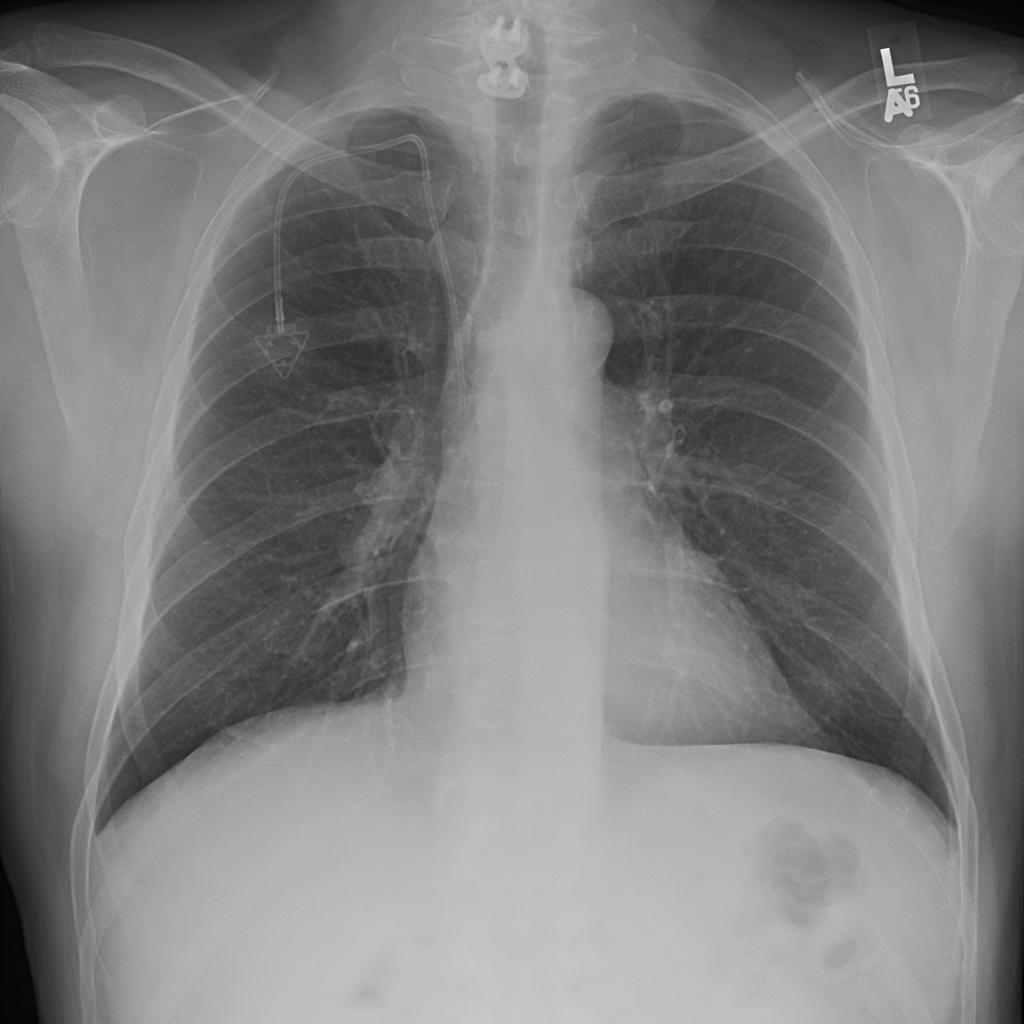Nodule: (178, 162, 194, 185)
